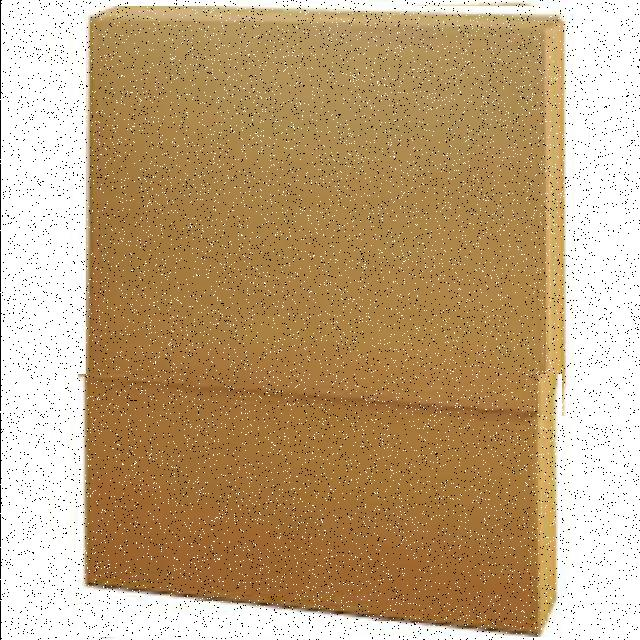normal: (72, 6, 574, 416), (77, 374, 561, 637)
